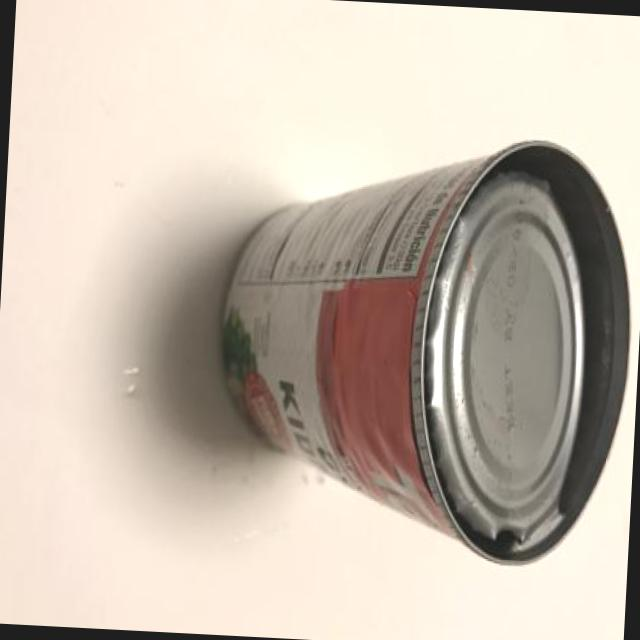nhom: (217, 138, 632, 565)
